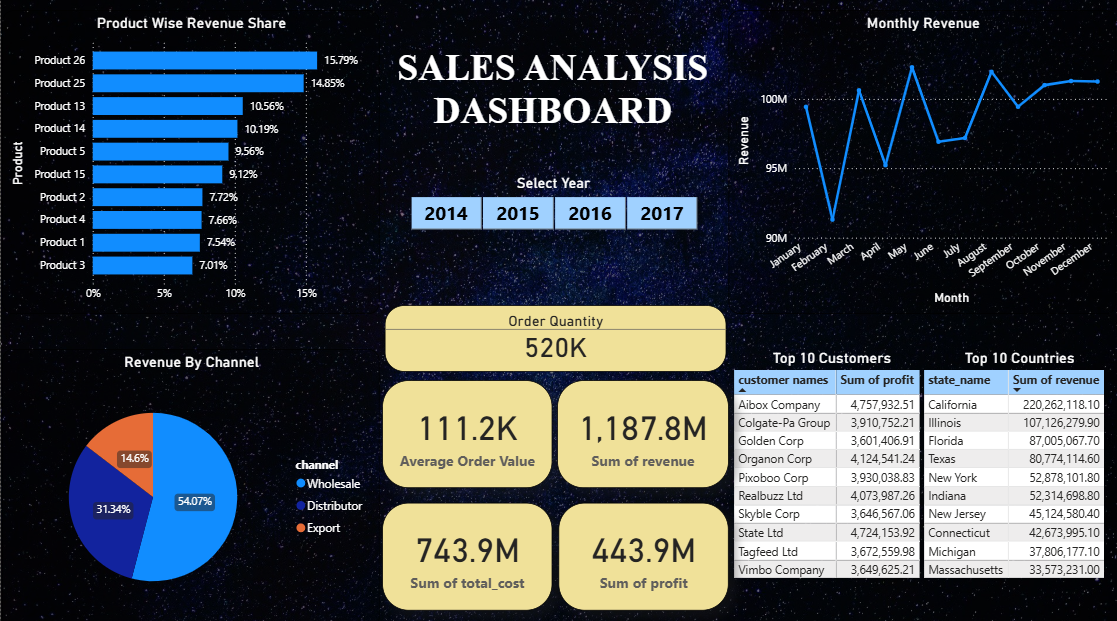

The page's visual inventory and layout, read from the dashboard file:
{"tool":"powerbi","page":{"name":"Page 1","canvas":[1280,720],"ordinal":0},"visuals":[{"type":"pieChart","title":"Revenue By Channel","fields":{"Category":["final2.channel"],"Y":["Sum(final2.revenue)"]},"box":[1.4,400,431.4,320],"z":0},{"type":"tableEx","title":"Top 10 Countries","fields":{"Values":["final2.state_name","Sum(final2.revenue)"]},"box":[1048.6,400,231.4,315.7],"z":1000},{"type":"lineStackedColumnComboChart","title":"Monthly Revenue","fields":{"Category":["final2.order_month.Variation.Date Hierarchy.Month"],"Y2":["Sum(final2.revenue)"]},"box":[831.4,12.9,444.3,347.1],"z":2000},{"type":"barChart","title":"Product Wise Revenue Share","fields":{"Category":["final2.product_name"],"Y":["Sum(final2.revenue)"]},"box":[1.4,12.9,431.4,347.1],"z":3000},{"type":"tableEx","title":"Top 10 Customers","fields":{"Values":["final2.customer names","Sum(final2.profit)"]},"box":[831.4,400,236.3,315.7],"z":4000},{"type":"card","fields":{"Values":["final2.Average Order Value"]},"box":[435.7,435.7,194.3,122.9],"z":5000},{"type":"card","title":"Revenue","fields":{"Values":["Sum(final2.total_cost)"]},"box":[435.7,575.7,194.3,122.9],"z":6000},{"type":"card","fields":{"Values":["Sum(final2.revenue)"]},"box":[635.7,435.7,195.7,122.9],"z":7000},{"type":"card","fields":{"Values":["Sum(final2.profit)"]},"box":[637.1,575.7,194.3,122.9],"z":8000},{"type":"textbox","box":[418.6,48.6,424.3,138.6],"z":9000},{"type":"slicer","title":"Select Year","fields":{"Values":["final2.order_date.Variation.Date Hierarchy.Year"]},"box":[442.9,200,377.1,67.1],"z":10000},{"type":"card","title":"Order Quantity","fields":{"Values":["Sum(final2.order_quantity)"]},"box":[438.6,350,390,75.7],"z":16001}]}

Visuals, with their boxes in screenshot pixels (x1, y1, x2, y2), scaled from the page's 1280x720 canvas onto the 1117x621 screenshot:
"Revenue By Channel" pieChart: rect(1, 345, 378, 620)
"Top 10 Countries" tableEx: rect(915, 345, 1116, 617)
"Monthly Revenue" lineStackedColumnComboChart: rect(726, 11, 1113, 310)
"Product Wise Revenue Share" barChart: rect(1, 11, 378, 310)
"Top 10 Customers" tableEx: rect(726, 345, 932, 617)
card - final2.Average Order Value: rect(380, 376, 550, 482)
"Revenue" card: rect(380, 497, 550, 603)
card - Sum(final2.revenue): rect(555, 376, 726, 482)
card - Sum(final2.profit): rect(556, 497, 726, 603)
textbox: rect(365, 42, 736, 161)
"Select Year" slicer: rect(386, 172, 716, 230)
"Order Quantity" card: rect(383, 302, 723, 367)
